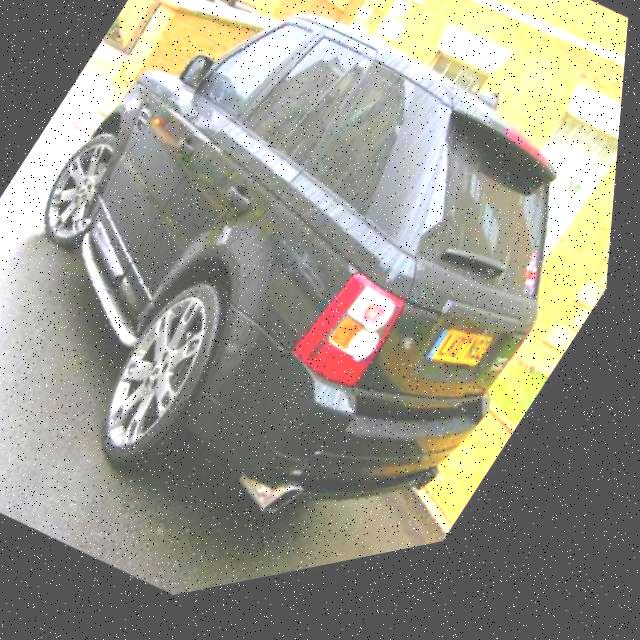license_plate: (429, 332, 503, 409)
